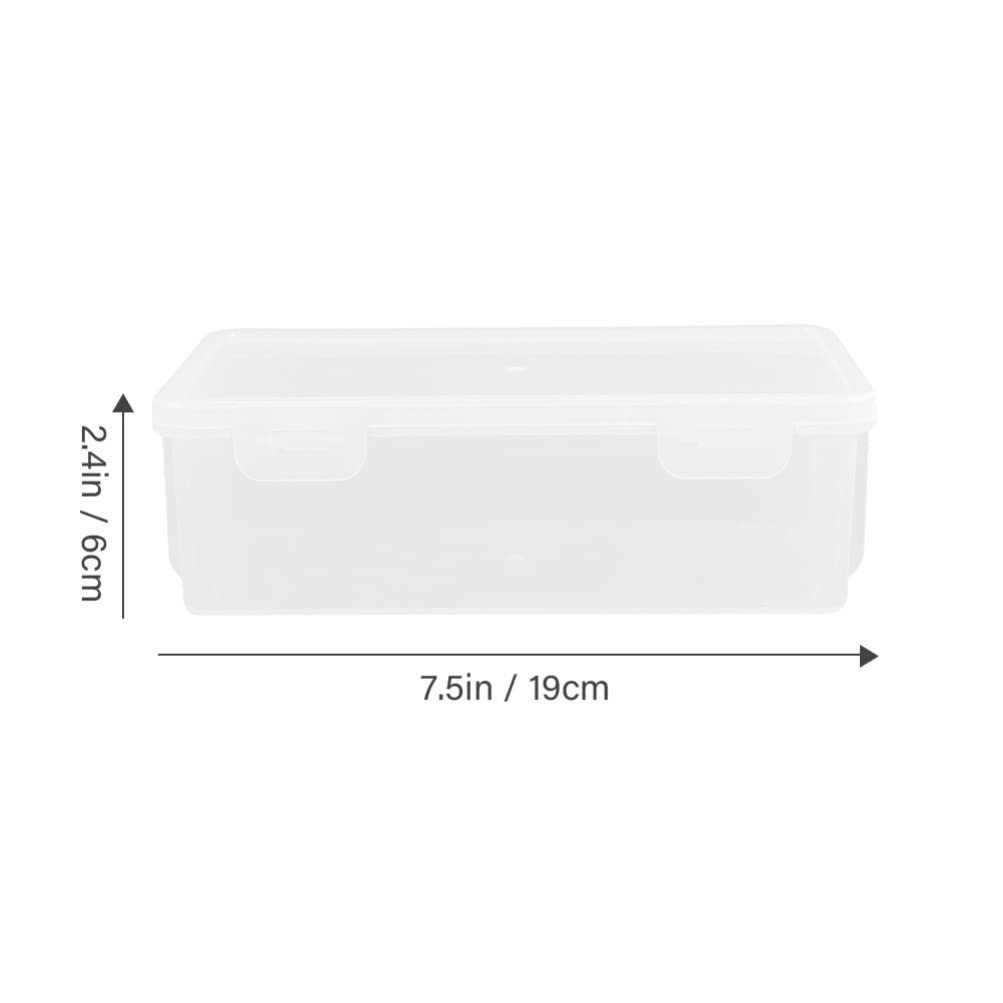/: (80, 510, 108, 523), (504, 674, 517, 702)
19cm: (530, 675, 608, 700)
7.5in: (421, 673, 492, 700)
